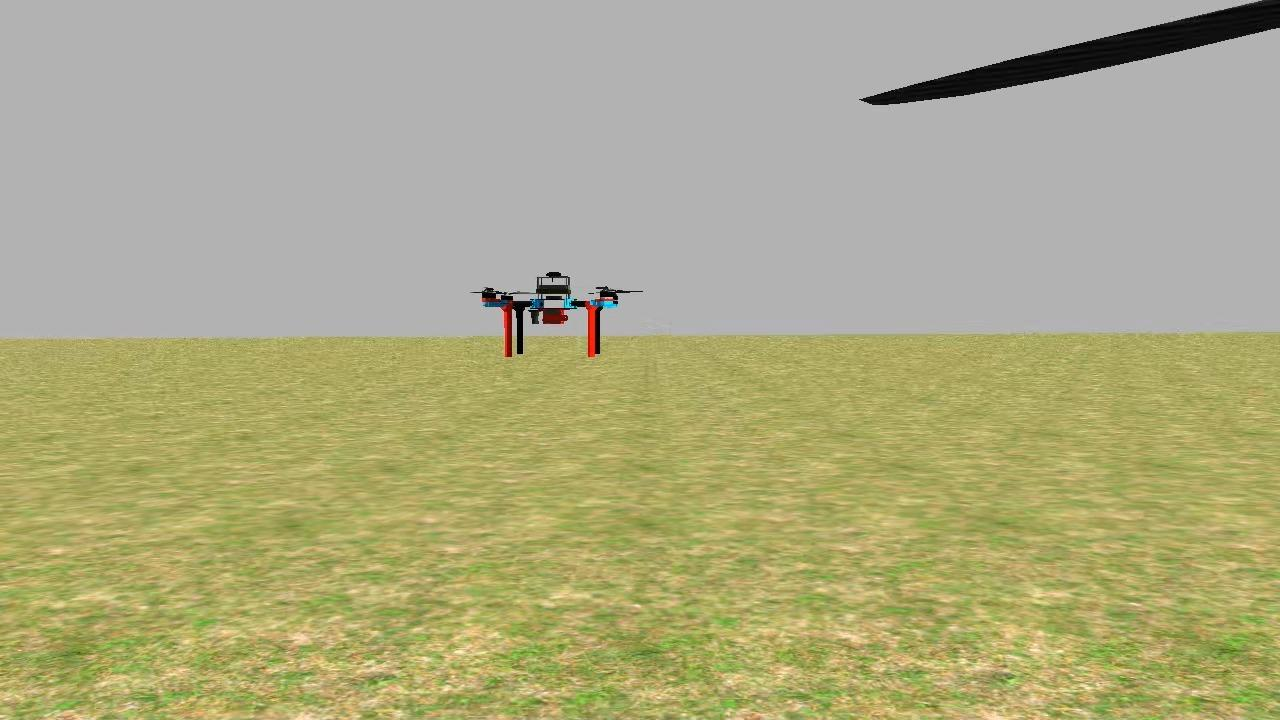UAV: (478, 264, 626, 362)
